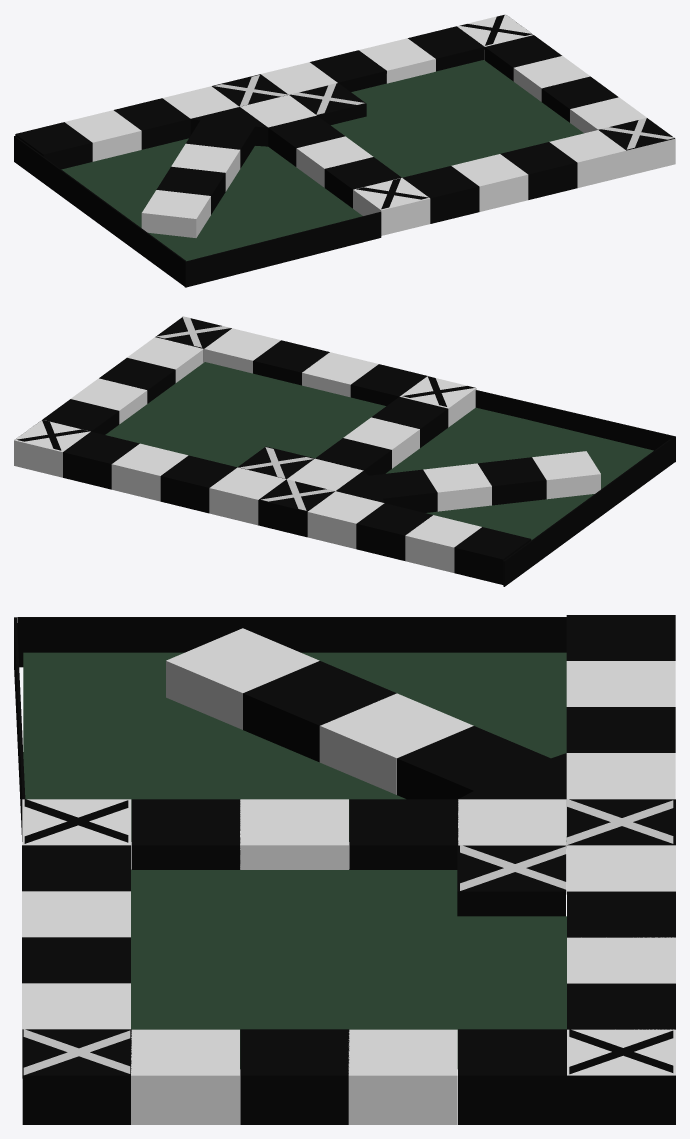
The model's file is board.fbx.
The picture shows the model from 3 angles, top to bottom: view 1: azimuth 30°, elevation 25°; view 2: azimuth 150°, elevation 25°; view 3: azimuth 270°, elevation 25°; orthographic projection. The views are drawn at different scales.
Parts seen in each view (by area): view 1: Black.004, Plane, Plane.003, Cube, Text.004, Text.002, Text.001, Text.003, Text; view 2: Black.004, Plane, Plane.003, Cube, Text.004, Text.001, Text.002, Text.003, Text; view 3: Black.004, Plane, Plane.003, Cube, Text.002, Text.001, Text.004, Text, Text.003.
Boxes of the visible parts, box(x1,y1,x2,y2) form: Black.004: box(15, 14, 675, 237); Plane: box(331, 60, 583, 177); Plane.003: box(61, 138, 362, 261); Cube: box(14, 136, 381, 287); Text.004: box(290, 83, 364, 114); Text.002: box(601, 118, 674, 149); Text.001: box(214, 75, 287, 106); Text.003: box(356, 178, 428, 209); Text: box(460, 15, 532, 45); Black.004: box(14, 317, 600, 584); Plane: box(105, 362, 385, 467); Plane.003: box(386, 407, 653, 540); Cube: box(475, 390, 675, 586); Text.004: box(239, 447, 313, 478); Text.001: box(261, 479, 335, 510); Text.002: box(156, 316, 230, 347); Text.003: box(402, 376, 475, 406); Text: box(17, 420, 89, 450); Black.004: box(22, 615, 675, 1124); Plane: box(131, 869, 566, 1052); Plane.003: box(23, 652, 566, 837); Cube: box(14, 617, 566, 841); Text.002: box(23, 1029, 130, 1075); Text.001: box(567, 799, 673, 844); Text.004: box(460, 845, 566, 890); Text: box(569, 1029, 673, 1074); Text.003: box(24, 799, 128, 843).
Size of the model in its own units: 2012 by 109 by 1216.
